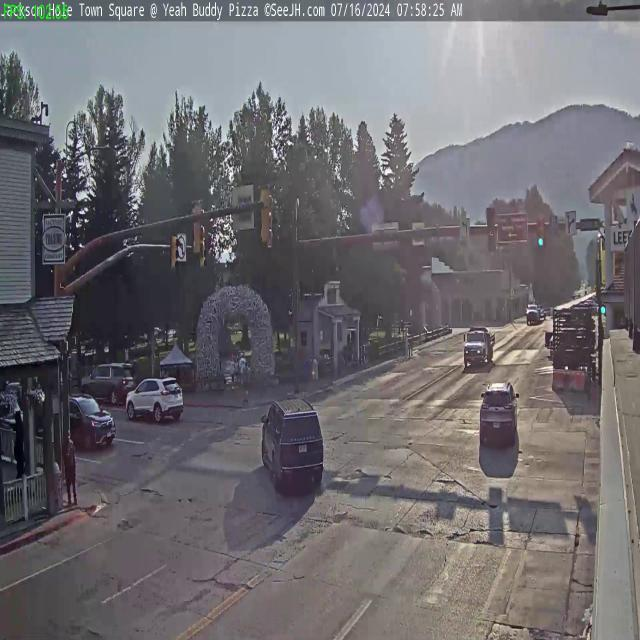person: (62, 422, 78, 505), (14, 408, 24, 488), (243, 360, 251, 398), (231, 353, 236, 386), (236, 350, 240, 388)
suv: (260, 398, 326, 491), (58, 396, 116, 450), (124, 376, 183, 426), (478, 378, 518, 446)
traffic light: (260, 183, 274, 248), (190, 202, 203, 258), (487, 206, 497, 253), (170, 234, 179, 270), (536, 216, 546, 247)
truck: (464, 325, 493, 368)
